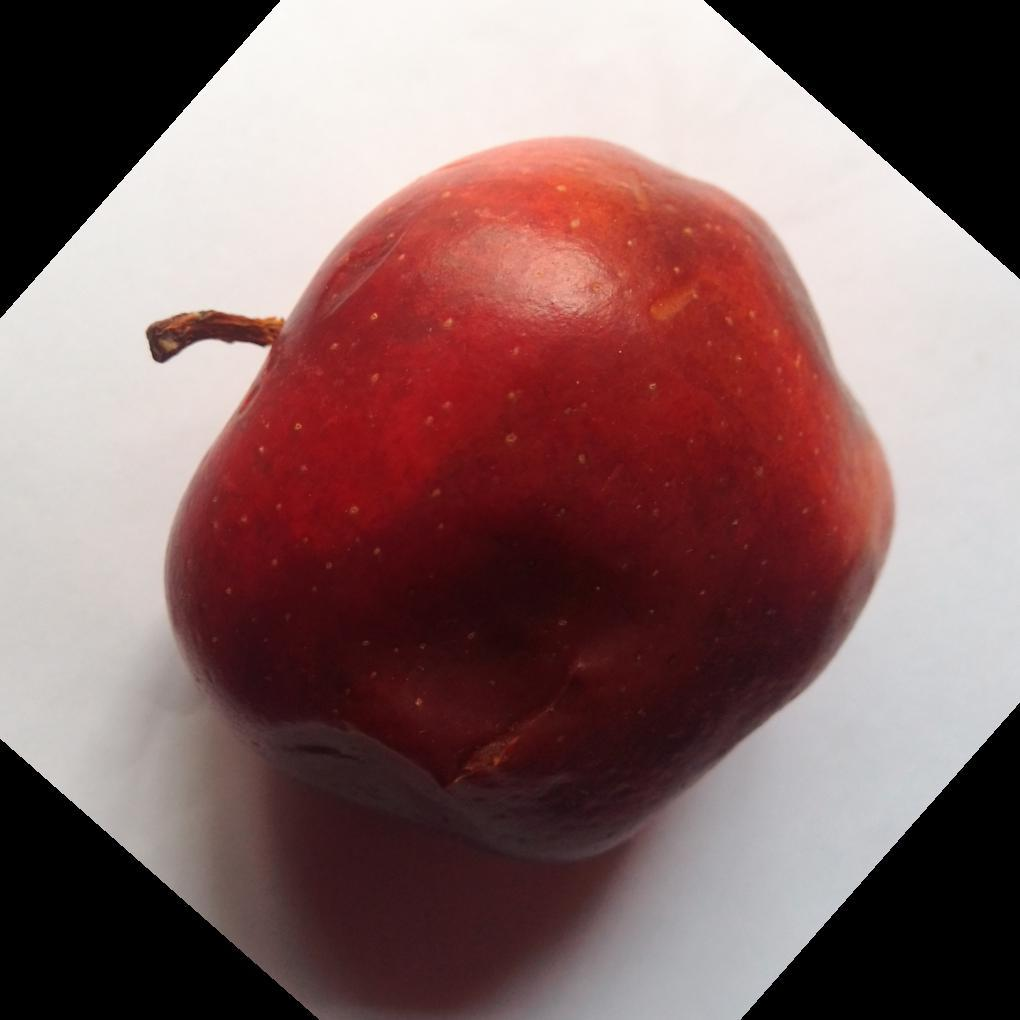FreshOrange: (151, 136, 898, 869)
